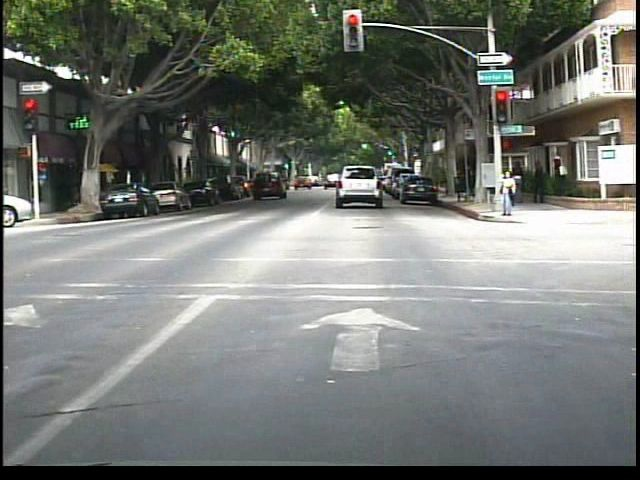person: (493, 167, 518, 219), (549, 149, 571, 197), (528, 157, 547, 207), (513, 157, 528, 205)
